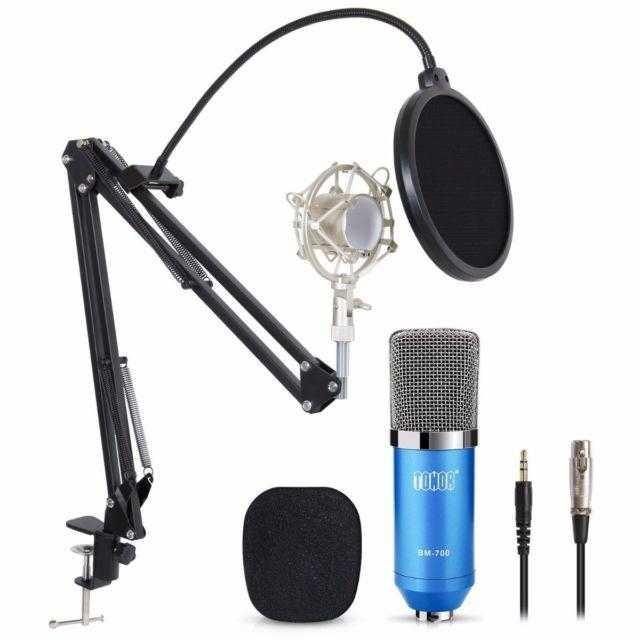microphone: (390, 328, 476, 622)
